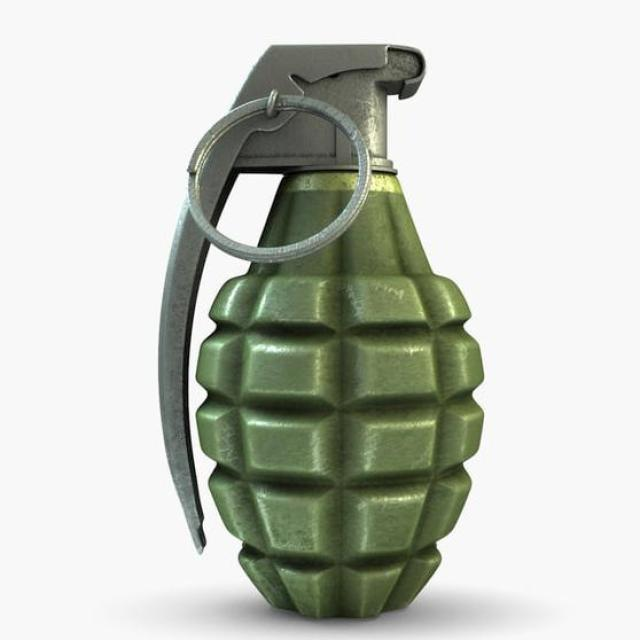grenade: (158, 44, 484, 623)
